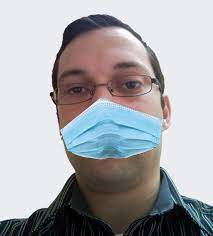mask_weared_incorrect: (54, 27, 162, 186)
